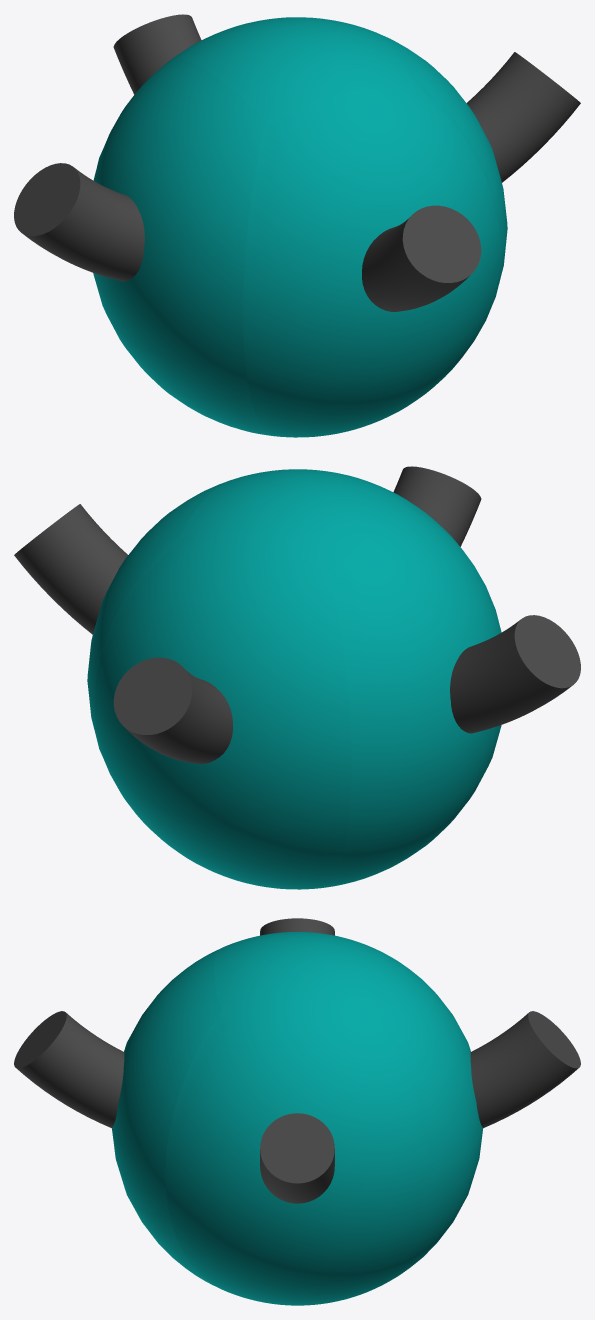
The picture shows the model from 3 angles, top to bottom: view 1: azimuth 30°, elevation 25°; view 2: azimuth 150°, elevation 25°; view 3: azimuth 270°, elevation 25°; orthographic projection. The views are drawn at different scales.
Parts seen in each view (by area): view 1: Body(Spherical)+Colour(6070194_6070194)+Pattern(Solid)+_3db8, Arm002, Arm004, Arm001, Arm003; view 2: Body(Spherical)+Colour(6070194_6070194)+Pattern(Solid)+_3db8, Arm002, Arm003, Arm001, Arm004; view 3: Body(Spherical)+Colour(6070194_6070194)+Pattern(Solid)+_3db8, Arm003, Arm004, Arm001, Arm002.
Boxes of the visible parts, <box> form: Body(Spherical)+Colour(6070194_6070194)+Pattern(Solid)+_3db8: <box>93,17,507,437</box>; Arm002: <box>14,163,144,281</box>; Arm004: <box>362,205,481,311</box>; Arm001: <box>466,52,580,182</box>; Arm003: <box>113,14,201,94</box>; Body(Spherical)+Colour(6070194_6070194)+Pattern(Solid)+_3db8: <box>87,469,501,889</box>; Arm002: <box>450,615,580,733</box>; Arm003: <box>113,657,232,763</box>; Arm001: <box>14,504,127,634</box>; Arm004: <box>393,466,481,546</box>; Body(Spherical)+Colour(6070194_6070194)+Pattern(Solid)+_3db8: <box>112,932,482,1305</box>; Arm003: <box>470,1011,580,1128</box>; Arm004: <box>14,1011,124,1128</box>; Arm001: <box>260,1113,334,1203</box>; Arm002: <box>260,918,334,935</box>.
Bounding box in the file's own units: 1.54 × 1.02 × 1.54.
2 materials, 2 textured.
